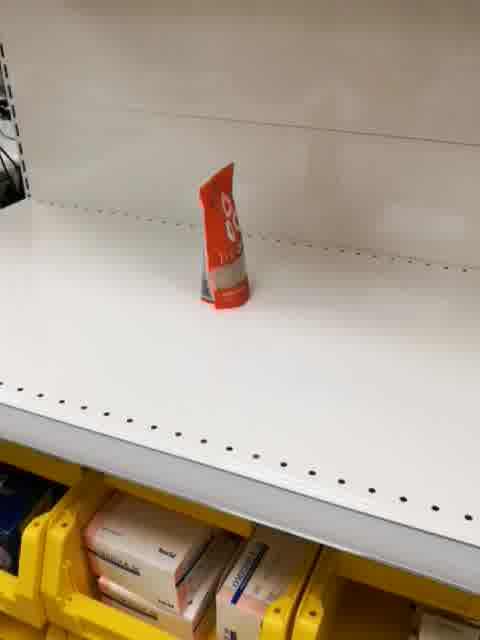whitechia: (194, 160, 253, 311)
